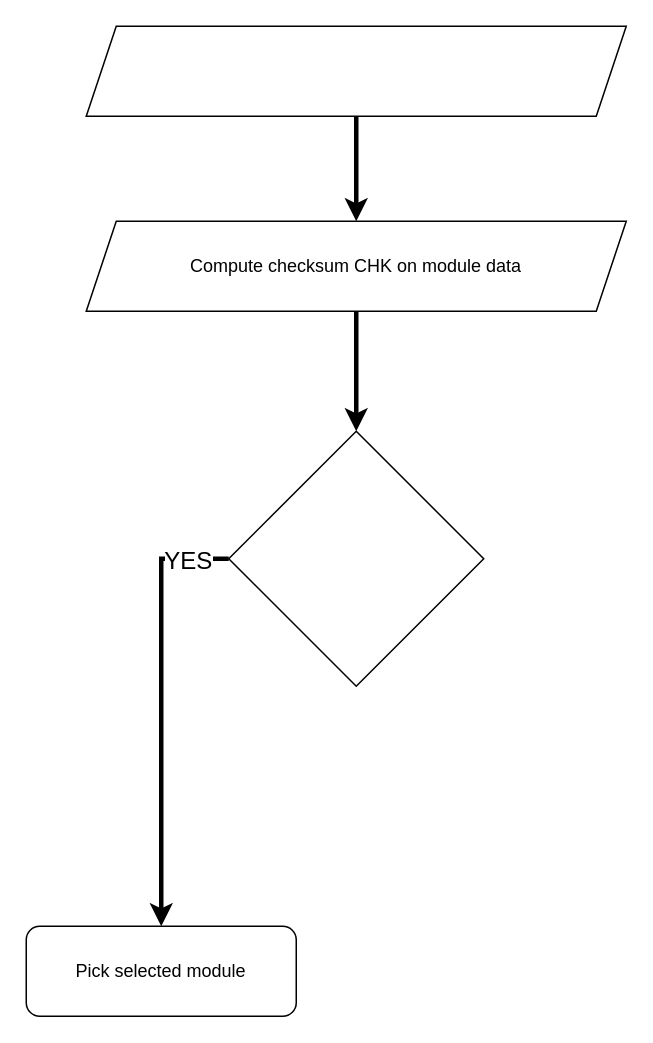
This 653x1043 diagram has some shape labels left out. Here are the shapes that lost their labels. From the top down, the centre of each, then its label:
At (x=355, y=70): "Find last written module via # times rewritten".
At (x=355, y=558): "computed CHK == stored CHK?".
